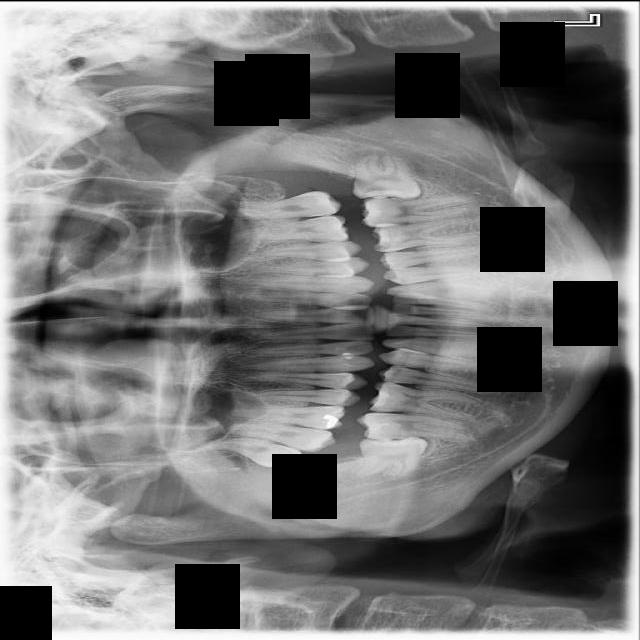3M ESPE Implant: (197, 422, 306, 475)
52: (365, 376, 408, 418), (369, 217, 414, 254), (359, 196, 405, 227), (298, 404, 348, 430), (317, 352, 376, 374), (324, 340, 373, 356)
73: (613, 13, 627, 22)
BioHorizons Implant: (225, 188, 342, 222)
Biomet 3i Implant: (352, 150, 423, 200)
Blue Sky Bio Implant: (360, 195, 477, 227)
Caries: (215, 414, 338, 455)
Implant: (356, 411, 469, 440)
Keystone Dental Implant: (351, 434, 430, 483)
